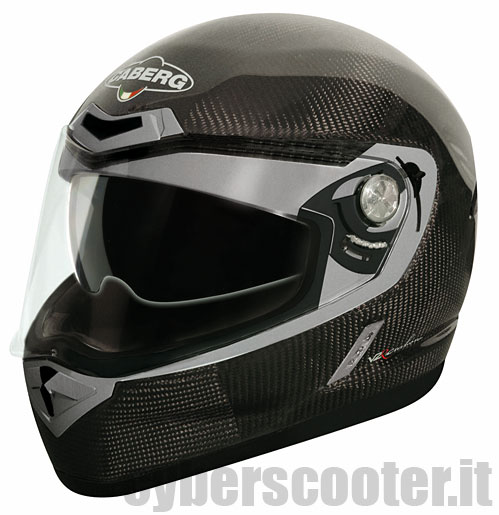helmet: (36, 17, 468, 429)
